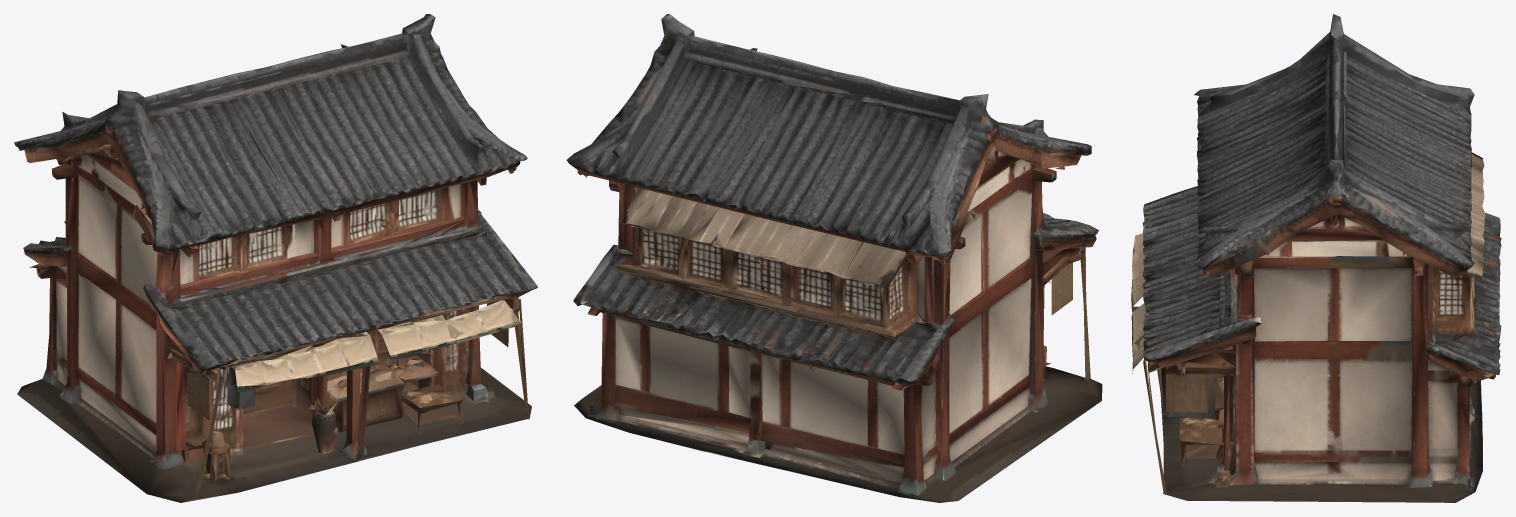
The model's file is 09_Apothecary_LOD2.fbx.
3 views of the same model, side by side, from view 1: azimuth 30°, elevation 25°; view 2: azimuth 150°, elevation 25°; view 3: azimuth 270°, elevation 25° (orthographic). The views are drawn at different scales.
Visible parts, largest first — view 1: 09_Apothecary_L2; view 2: 09_Apothecary_L2; view 3: 09_Apothecary_L2.
Boxes of the visible parts, x1,y1,x2,y2 form: 09_Apothecary_L2: [14, 14, 537, 502]; 09_Apothecary_L2: [566, 14, 1102, 502]; 09_Apothecary_L2: [1131, 14, 1501, 502].
Bounding box in the file's own units: 9.97 × 8.5 × 8.67.
